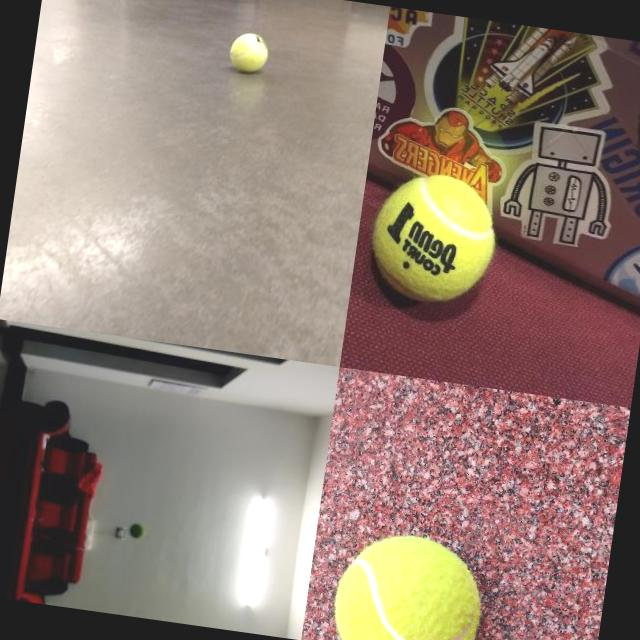Tennis Ball: (363, 165, 505, 309), (330, 527, 491, 640), (228, 30, 271, 75), (129, 522, 146, 540)
